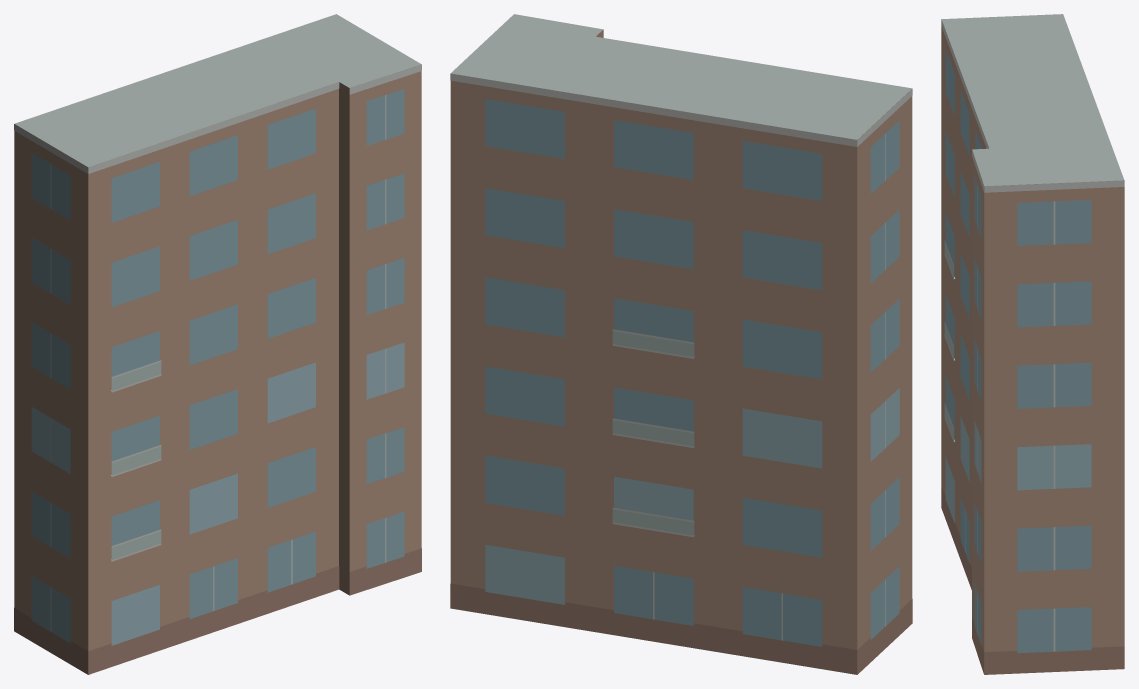
File: survey-upis-32904910.glb
3 views of the same model, side by side, from view 1: azimuth 30°, elevation 25°; view 2: azimuth 150°, elevation 25°; view 3: azimuth 270°, elevation 25° (orthographic). The views are drawn at different scales.
Parts seen in each view (by area): view 1: survey-upis-32904910.tmp; view 2: survey-upis-32904910.tmp; view 3: survey-upis-32904910.tmp.
Part boxes in pixels (x1,y1,x2,y2): survey-upis-32904910.tmp: (14, 14, 421, 674); survey-upis-32904910.tmp: (450, 14, 912, 674); survey-upis-32904910.tmp: (941, 14, 1124, 674).
Size of the model in its own units: 13.84 by 18.3 by 6.23.
